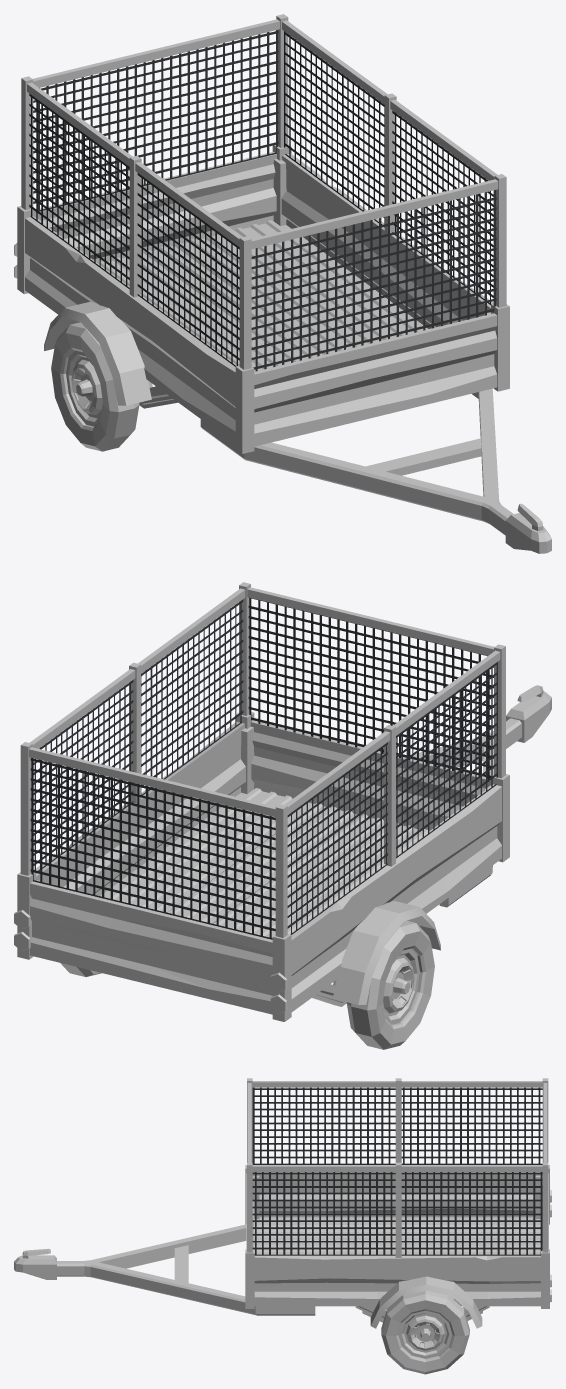
File: SM_Veh_Attach_Trailer_Cage_01.fbx
3 renders of one model, top to bottom at view 1: azimuth 30°, elevation 25°; view 2: azimuth 150°, elevation 25°; view 3: azimuth 270°, elevation 25°, orthographic. The views are drawn at different scales.
Visible parts, largest first — view 1: SM_Veh_Attach_Trailer_Cage_01, SM_Veh_Attach_Trailer_Cage_Wire, SM_Veh_Attach_Trailer_Cage_Wheel_r; view 2: SM_Veh_Attach_Trailer_Cage_01, SM_Veh_Attach_Trailer_Cage_Wire, SM_Veh_Attach_Trailer_Cage_Wheel_r; view 3: SM_Veh_Attach_Trailer_Cage_01, SM_Veh_Attach_Trailer_Cage_Wire, SM_Veh_Attach_Trailer_Cage_Wheel_l.
Boxes of the visible parts, <box> form: SM_Veh_Attach_Trailer_Cage_01: <box>14,14,551,553</box>; SM_Veh_Attach_Trailer_Cage_Wire: <box>29,30,496,371</box>; SM_Veh_Attach_Trailer_Cage_Wheel_r: <box>51,322,139,451</box>; SM_Veh_Attach_Trailer_Cage_01: <box>14,582,551,1021</box>; SM_Veh_Attach_Trailer_Cage_Wire: <box>30,597,497,939</box>; SM_Veh_Attach_Trailer_Cage_Wheel_r: <box>346,920,434,1049</box>; SM_Veh_Attach_Trailer_Cage_01: <box>14,1078,551,1328</box>; SM_Veh_Attach_Trailer_Cage_Wire: <box>252,1087,542,1255</box>; SM_Veh_Attach_Trailer_Cage_Wheel_l: <box>381,1291,469,1374</box>.
Bounding box in the file's own units: 241 × 208 × 505.
